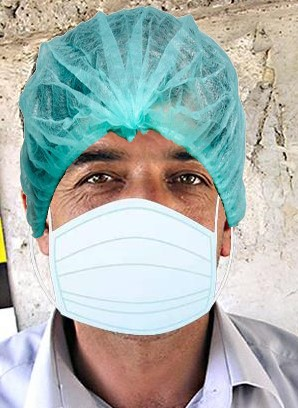with_mask_and_cap: (21, 10, 244, 337)
